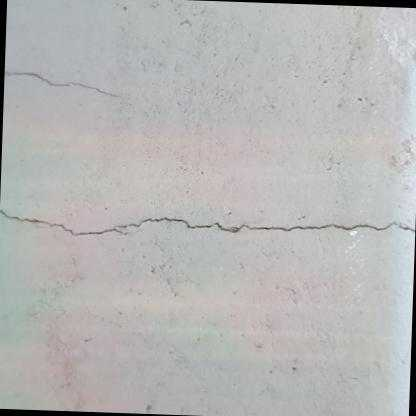crack: (0, 208, 415, 236)
